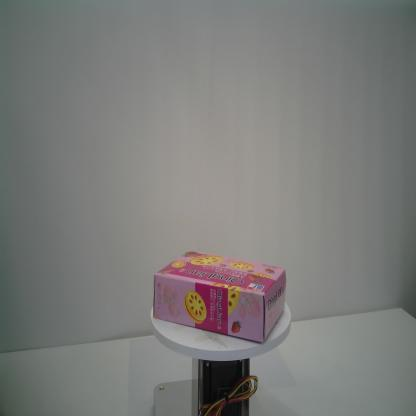Dessert: (153, 250, 286, 343)
